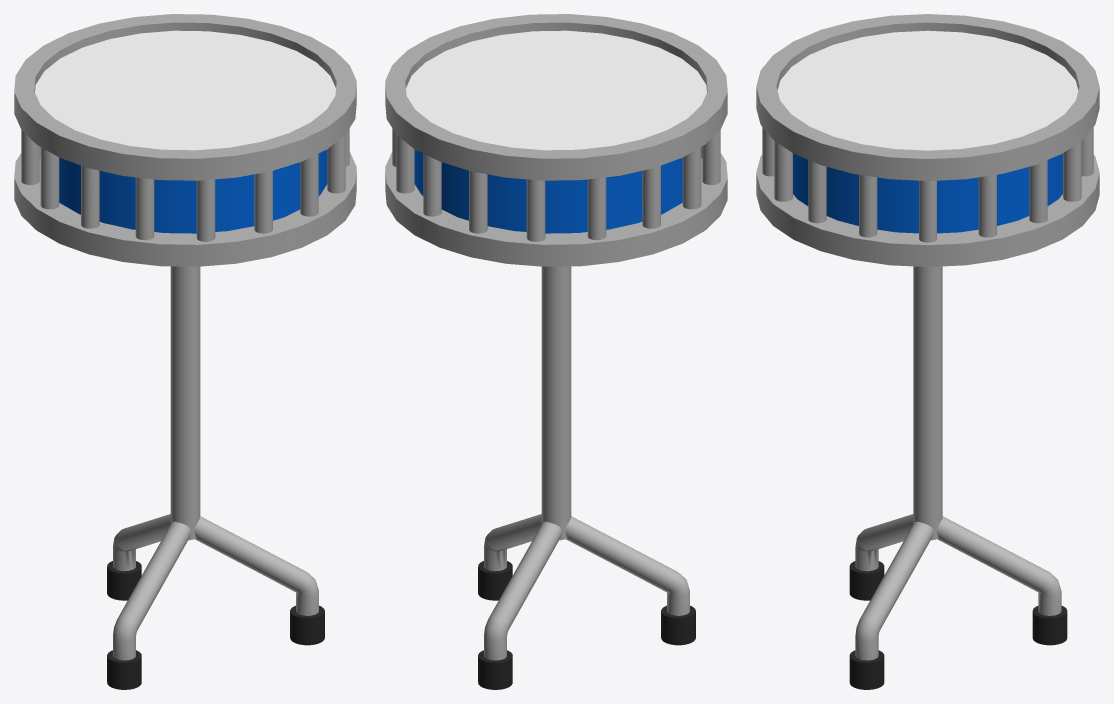
Rendered from Redoble.fbx.
3 views of the same model, side by side, from view 1: azimuth 30°, elevation 25°; view 2: azimuth 150°, elevation 25°; view 3: azimuth 270°, elevation 25° (orthographic).
Parts seen in each view (by area): view 1: Snare; view 2: Snare; view 3: Snare.
Boxes of the visible parts, box(x1,y1,x2,y2) form: Snare: box(14, 14, 356, 689); Snare: box(385, 14, 727, 689); Snare: box(756, 14, 1099, 689).
Bounding box in the file's own units: 121 × 214 × 121.
